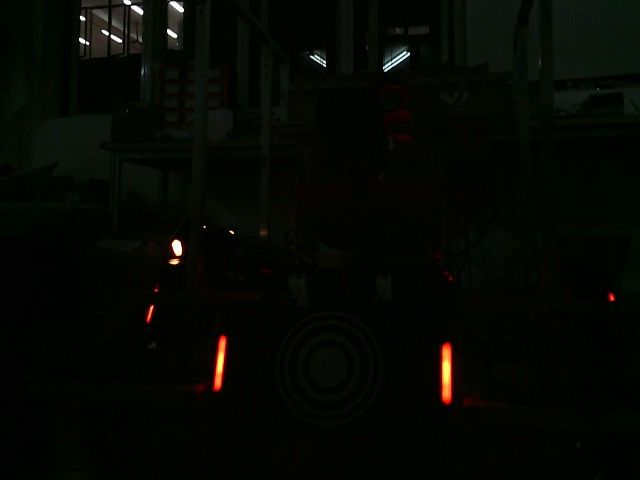lamp: (434, 340, 457, 404), (211, 332, 227, 393)
